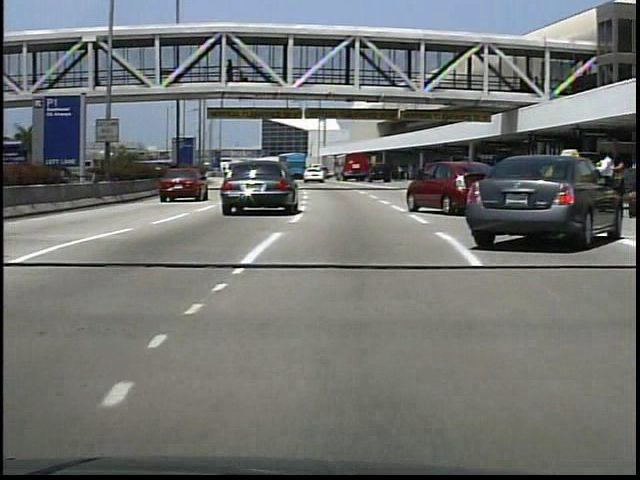person: (223, 58, 237, 86)
